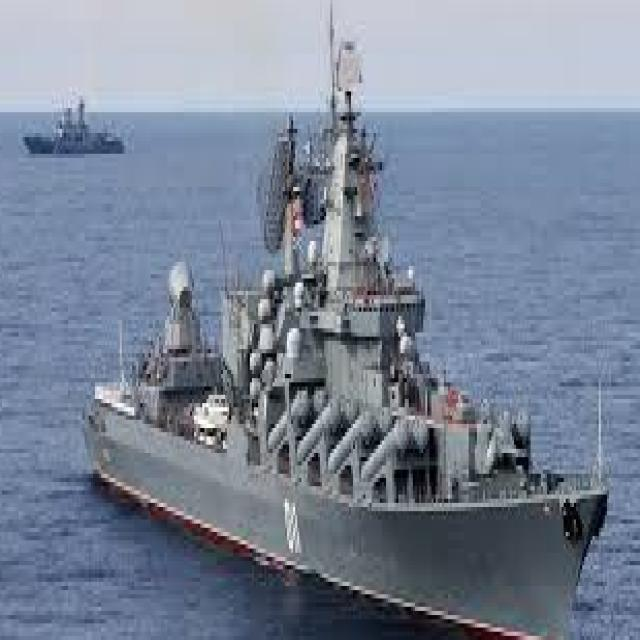navalvessels: (77, 14, 609, 634), (20, 77, 132, 175)
